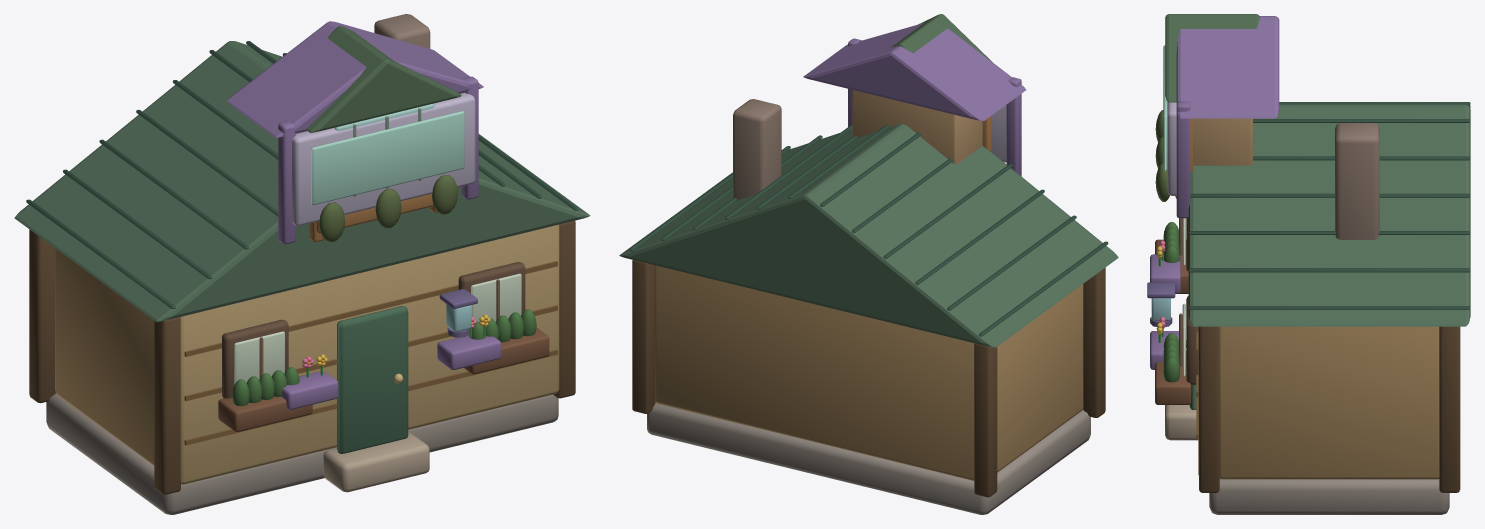
Rendered from res_hazel3.glb.
3 views of the same model, side by side, from view 1: azimuth 30°, elevation 25°; view 2: azimuth 150°, elevation 25°; view 3: azimuth 270°, elevation 25° (orthographic). The views are drawn at different scales.
Visible parts, largest first — view 1: base, roof, crystal, walls, flower, frame, herb; view 2: base, roof, frame, walls; view 3: base, roof, frame, flower, walls, herb, crystal.
Boxes of the visible parts, box(x1,y1,x2,y2) form: base: box(14, 14, 590, 514); roof: box(226, 21, 483, 137); crystal: box(311, 111, 464, 205); walls: box(292, 92, 475, 225); flower: box(281, 314, 501, 409); frame: box(278, 76, 478, 244); herb: box(319, 175, 457, 241); base: box(619, 14, 1118, 514); roof: box(803, 23, 1026, 121); frame: box(848, 38, 1021, 176); walls: box(991, 105, 1006, 162); base: box(1147, 14, 1470, 514); roof: box(1176, 16, 1279, 118); frame: box(1176, 101, 1190, 218); flower: box(1150, 240, 1180, 369); walls: box(1167, 102, 1176, 195); herb: box(1155, 110, 1169, 201); crystal: box(1163, 45, 1167, 170).
Size of the model in its own units: 3.47 by 3.26 by 2.32.
